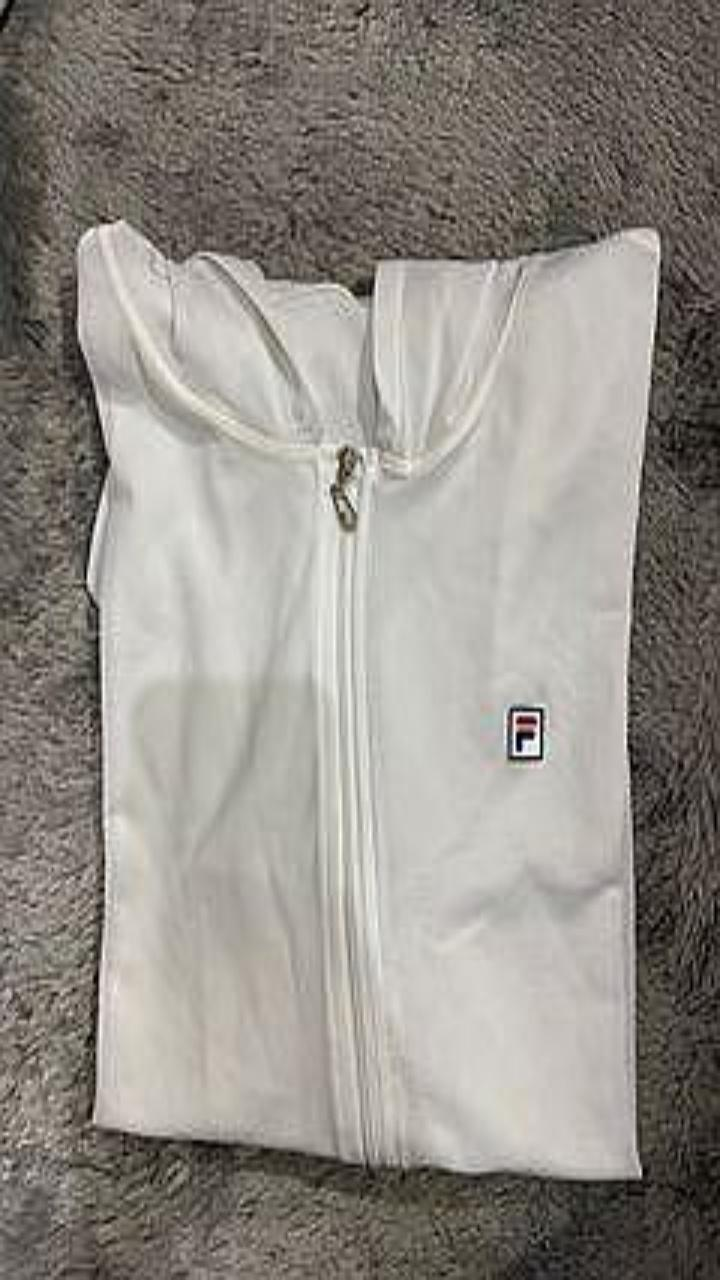Sports_Jacket: (77, 219, 659, 1178)
